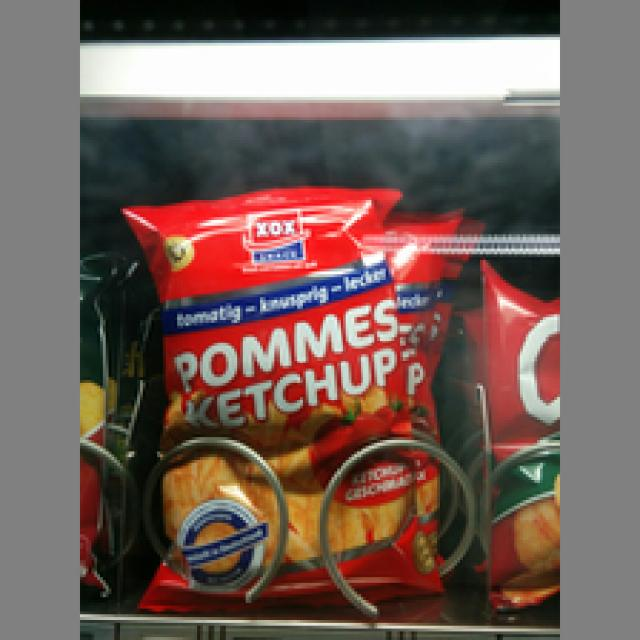groceries: (134, 192, 440, 594)
